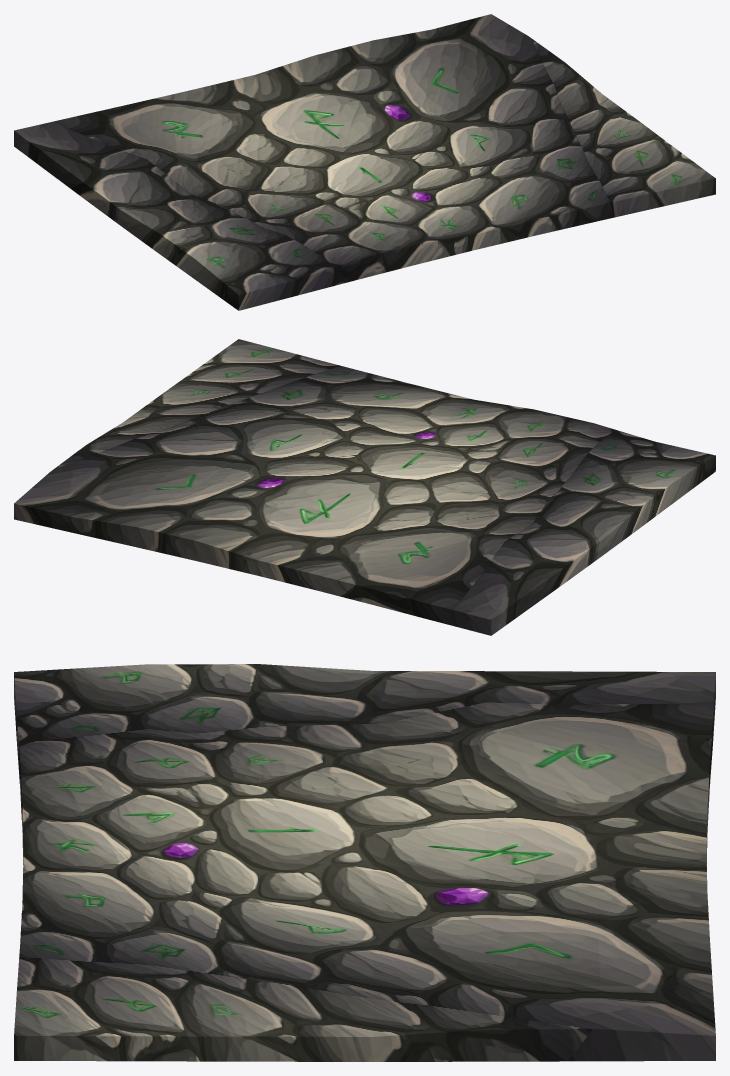
The model's file is ParedRunas1.fbx.
3 views of the same model, one above another, from view 1: azimuth 30°, elevation 25°; view 2: azimuth 150°, elevation 25°; view 3: azimuth 270°, elevation 25° (orthographic). The views are drawn at different scales.
Parts seen in each view (by area): view 1: Cube; view 2: Cube; view 3: Cube.
Boxes of the visible parts, x1,y1,x2,y2 form: Cube: (14,14,715,310); Cube: (14,339,715,635); Cube: (14,664,715,1061).
Size of the model in its own units: 3138 by 162 by 2545.
